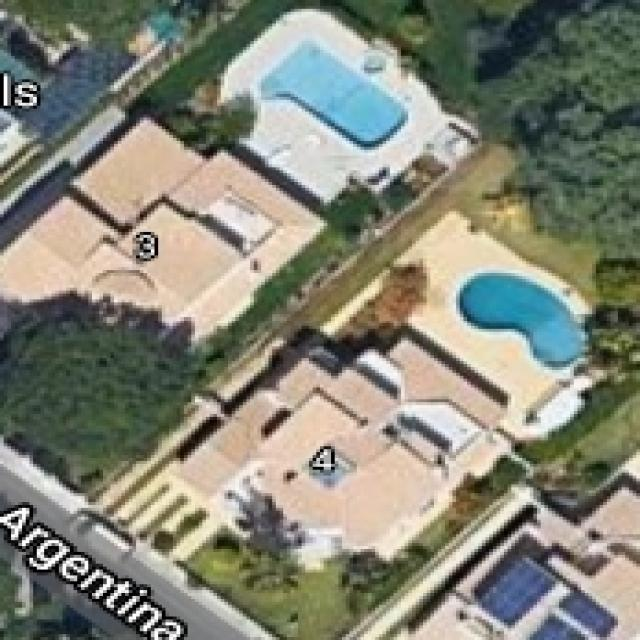swimming pool: (257, 38, 408, 147), (452, 270, 588, 367)
